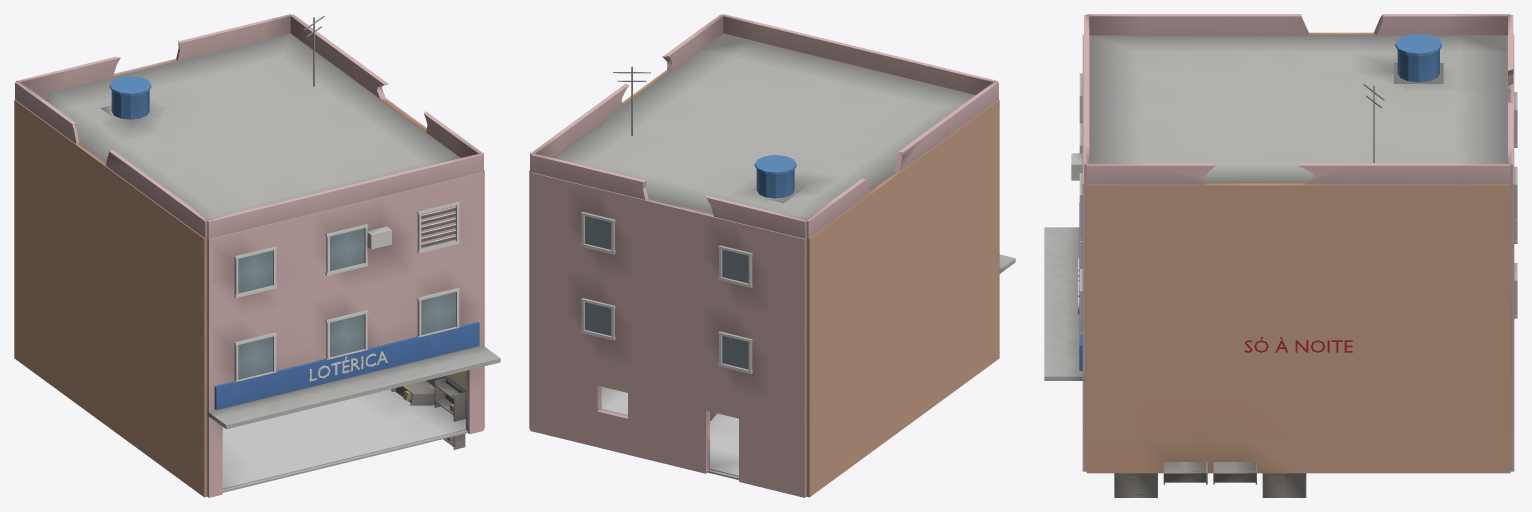
Rendered from sobrado_5.glb.
3 renders of one model, left to right at view 1: azimuth 30°, elevation 25°; view 2: azimuth 150°, elevation 25°; view 3: azimuth 270°, elevation 25°, orthographic. The views are drawn at different scales.
Visible parts, largest first — view 1: ext, longe, dentro, detalhe; view 2: ext, longe, detalhe, dentro; view 3: ext, longe, detalhe, dentro.
Part boxes in pixels (x1=…): ext: x1=14, y1=33, x2=484, y2=497; longe: x1=15, y1=14, x2=500, y2=429; dentro: x1=222, y1=371, x2=467, y2=492; detalhe: x1=100, y1=16, x2=459, y2=382; ext: x1=529, y1=33, x2=999, y2=497; longe: x1=530, y1=14, x2=1015, y2=273; detalhe: x1=581, y1=66, x2=805, y2=374; dentro: x1=601, y1=386, x2=738, y2=479; ext: x1=1082, y1=32, x2=1514, y2=473; longe: x1=1044, y1=14, x2=1513, y2=380; detalhe: x1=1071, y1=34, x2=1517, y2=352; dentro: x1=1114, y1=462, x2=1306, y2=497.
Size of what is drawn, in the model's own units: 10.73 by 12.29 by 13.4.
